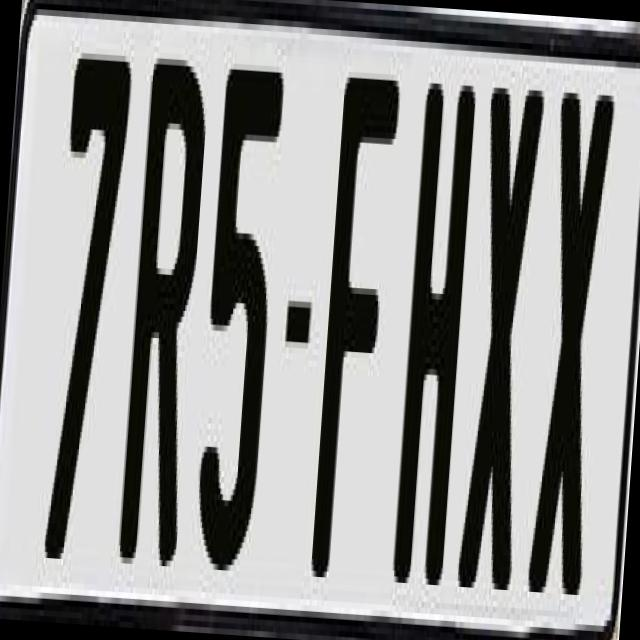5: (186, 51, 284, 589)
7: (38, 58, 141, 597)
F: (309, 59, 404, 574)
H: (390, 82, 478, 586)
R: (112, 51, 206, 560)
X: (524, 75, 620, 612), (456, 75, 546, 584)
